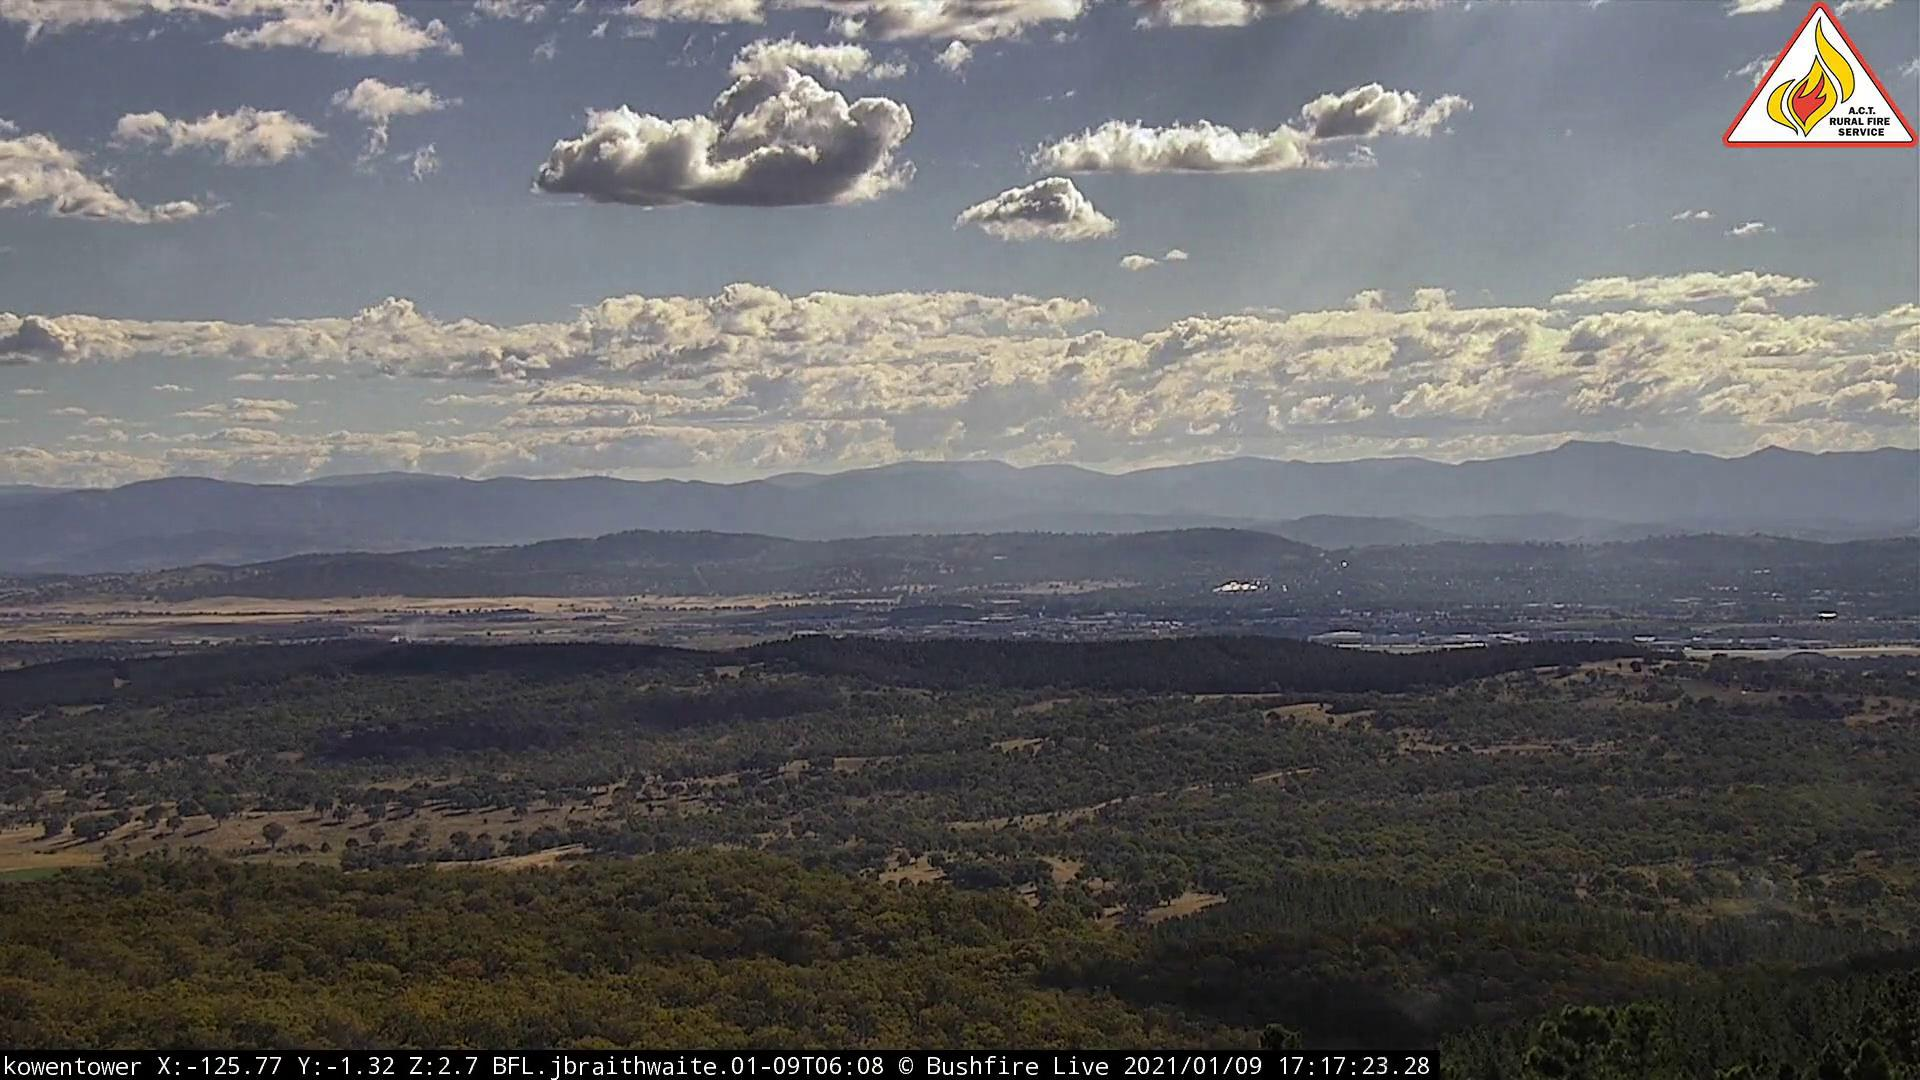Smoke: (382, 611, 434, 658)
